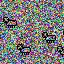sheep: (2, 16, 18, 29), (16, 43, 32, 55), (41, 31, 57, 43), (57, 45, 64, 56)
